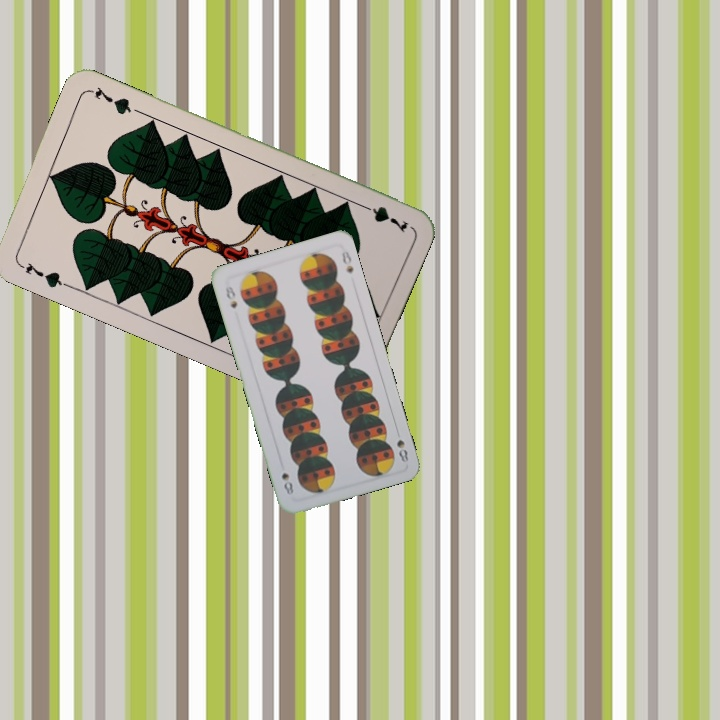G7: (355, 199, 412, 235), (14, 258, 71, 291)
S8: (221, 282, 240, 311), (393, 435, 411, 465)
